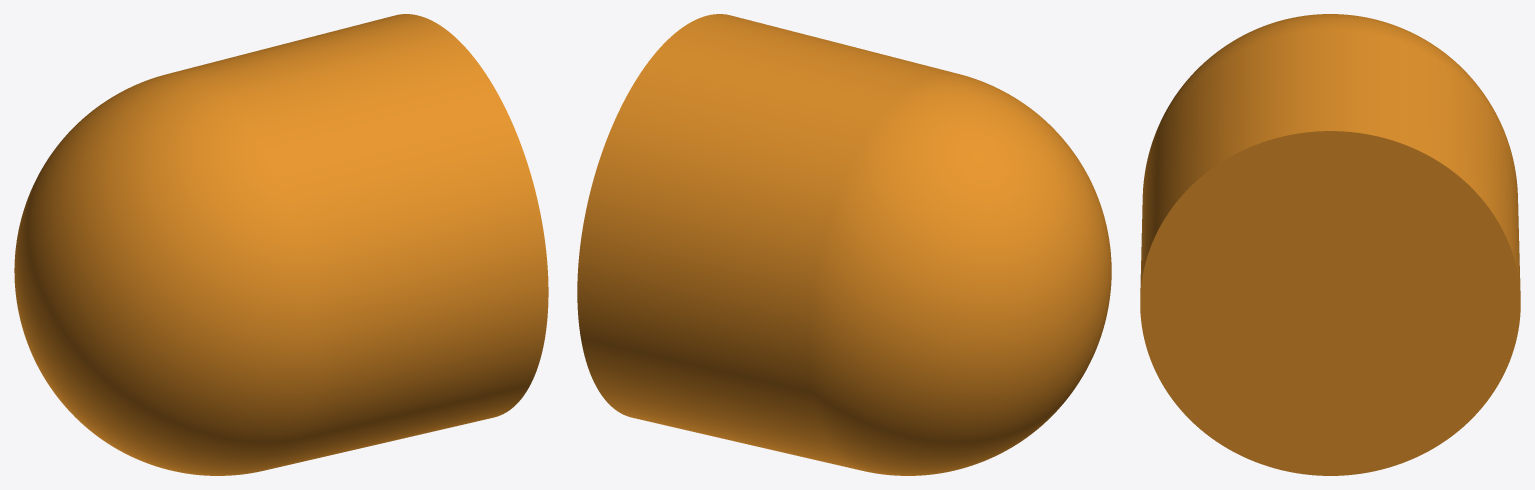
The model's file is Corpo_tip_sta.obj.
3 renders of one model, left to right at view 1: azimuth 30°, elevation 25°; view 2: azimuth 150°, elevation 25°; view 3: azimuth 270°, elevation 25°, orthographic. The views are drawn at different scales.
Visible parts, largest first — view 1: Corpo4; view 2: Corpo4; view 3: Corpo4.
Part boxes in pixels (box(x1,y1,x2,y2)): Corpo4: box(14, 14, 548, 475); Corpo4: box(577, 14, 1111, 475); Corpo4: box(1140, 14, 1520, 475).
Bounding box in the file's own units: 11.5 × 10.25 × 10.25.
